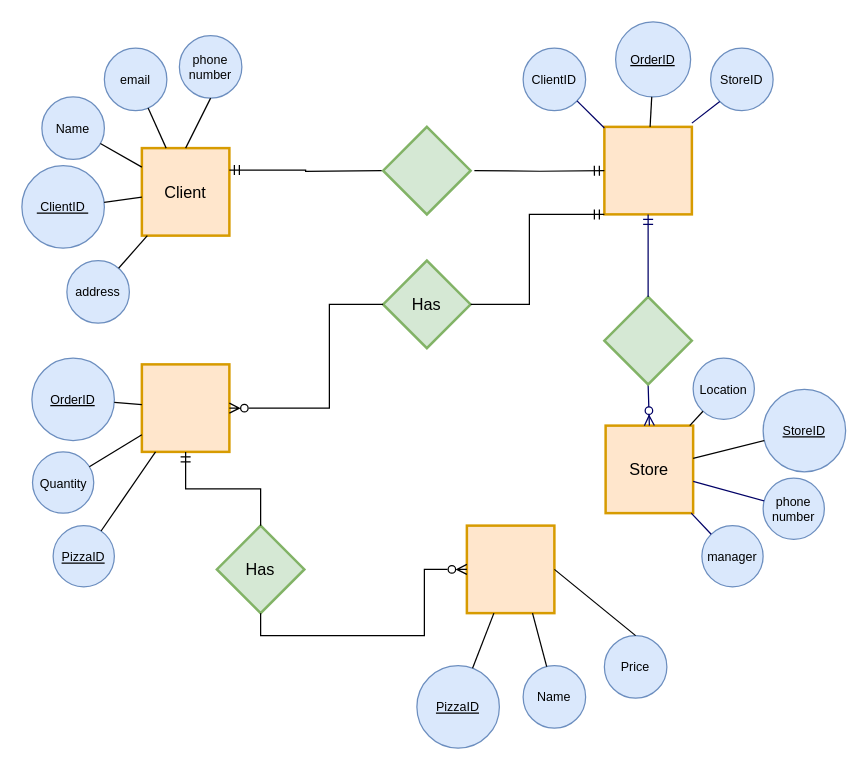
The diagram is 868 pixels wide and 770 high, and some of its shapes have lost their labels. Here are the shapes that lost their labels. From the top down, the centre of each, then its label:
point (426, 170): Places
point (647, 170): Order
point (647, 340): From
point (185, 407): OrderItem
point (510, 569): Pizza
